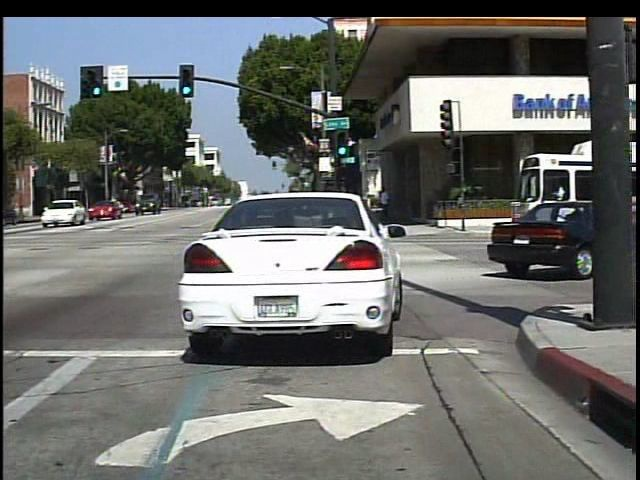person: (377, 183, 395, 225)
